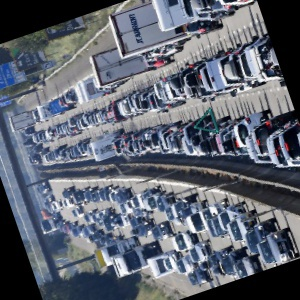triangle: (193, 106, 220, 135)
